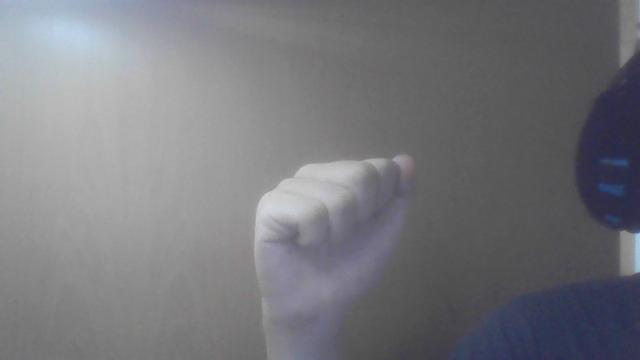forward: (252, 153, 416, 359)
